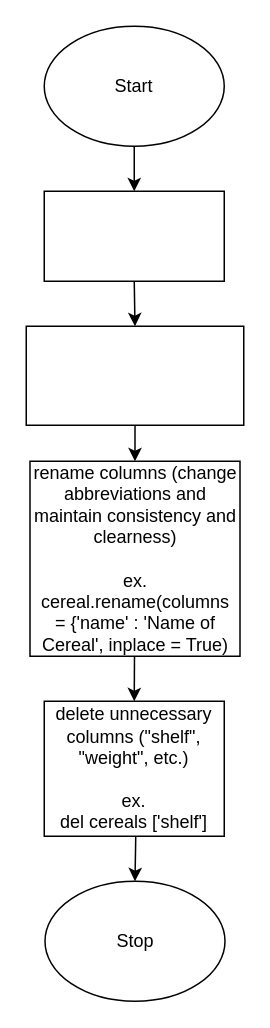
Image size: 270x1028. Some labels were removed from this diagram. The shapes that lost their labels are listed below. From the top down, each one's centre as x and y in pixels, then its label:
(133,235): import pandas
(134,375): cereals = pd.read_csv("cereal.csv")
